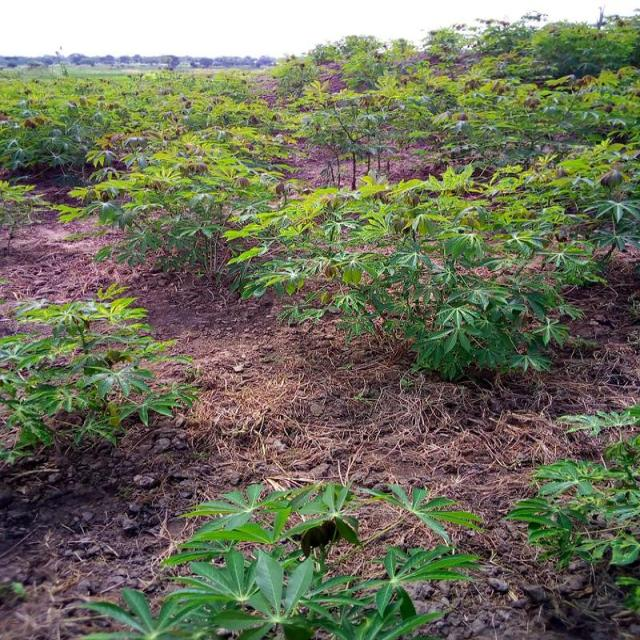cassava leaf: (79, 479, 484, 638)
